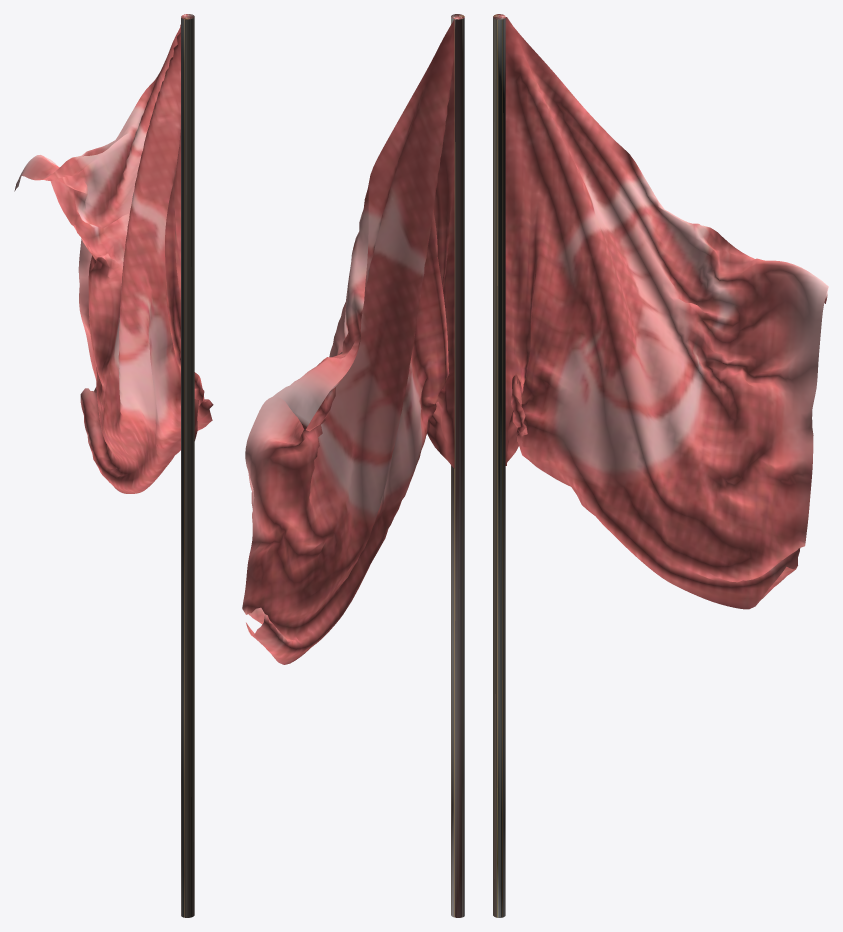
Rendered from bandera_roja.obj.
The picture shows the model from 3 angles, left to right: view 1: azimuth 30°, elevation 25°; view 2: azimuth 150°, elevation 25°; view 3: azimuth 270°, elevation 25°; orthographic projection.
Visible parts, largest first — view 1: BanderaRoja002; view 2: BanderaRoja002; view 3: BanderaRoja002.
Boxes of the visible parts, x1,y1,x2,y2 form: BanderaRoja002: (14, 14, 213, 917); BanderaRoja002: (242, 14, 464, 917); BanderaRoja002: (493, 14, 828, 917).
Bounding box in the file's own units: 0.8451 × 8.14 × 2.76.
